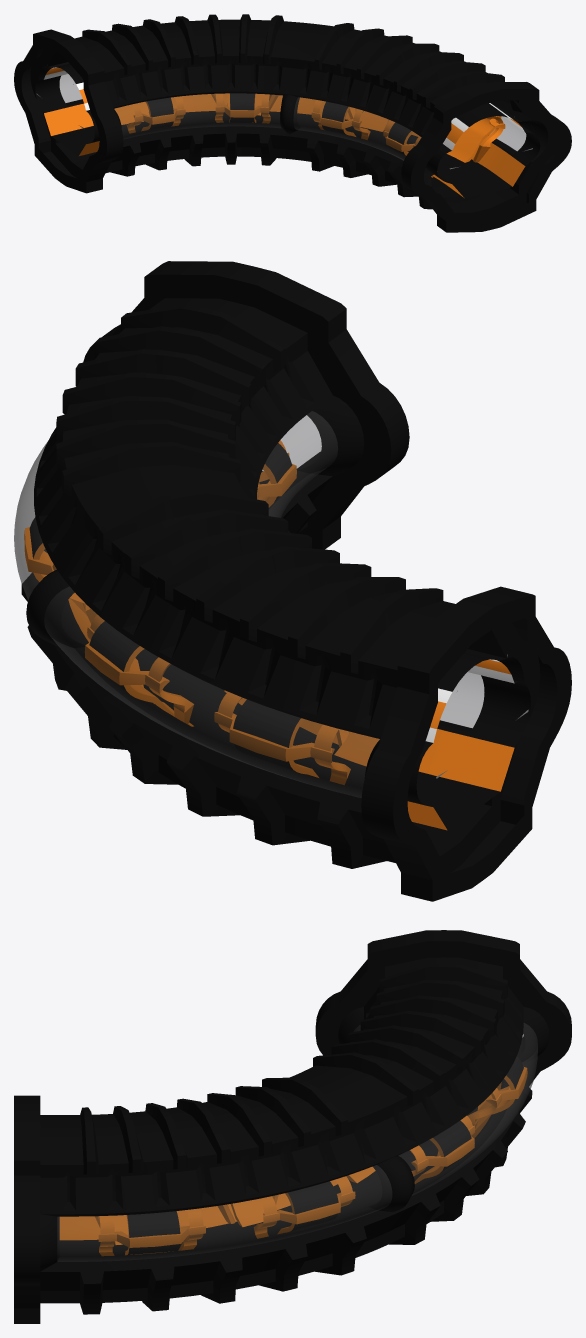
The model's file is Connect_08.FBX.
3 views of the same model, one above another, from view 1: azimuth 30°, elevation 25°; view 2: azimuth 150°, elevation 25°; view 3: azimuth 270°, elevation 25° (orthographic). The views are drawn at different scales.
Visible parts, largest first — view 1: Dummy002; view 2: Dummy002; view 3: Dummy002.
Part boxes in pixels (box(x1,y1,x2,y2)): Dummy002: box(14, 14, 571, 232); Dummy002: box(14, 261, 571, 901); Dummy002: box(14, 930, 571, 1323).
Size of the model in its own units: 2056 by 764 by 2032.
